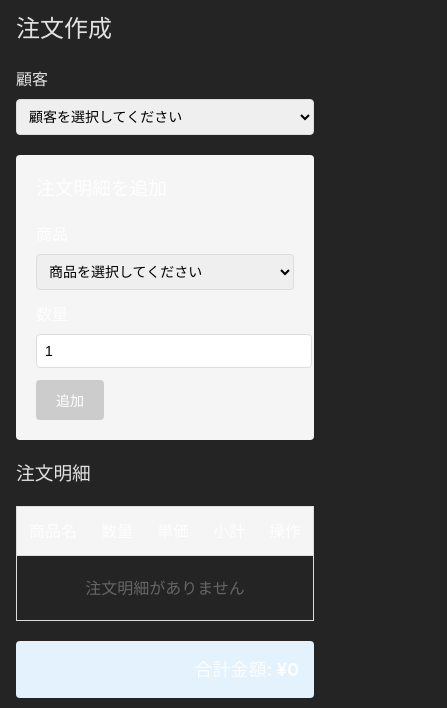
Test: CreateOrderForm › should add order item to table when add button is clicked
Select "ノートPC - ¥100,000" in the dropdown labelled "商品". click: (165, 272)
box: [36,254,294,290]
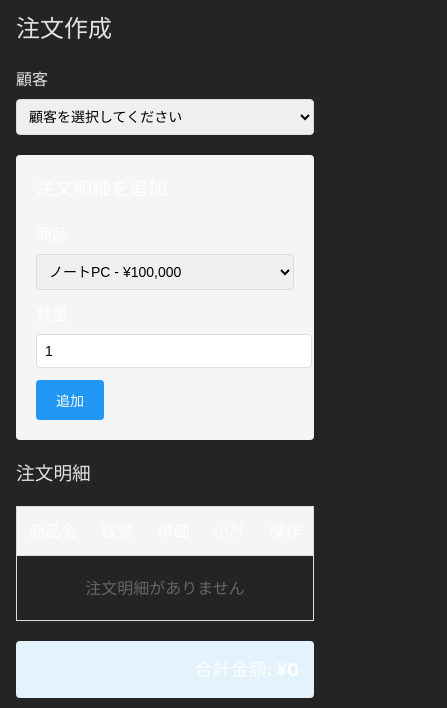
Replace the text in the number field labelled "数量" with "2". click: (174, 351)
box: [36,334,312,368]
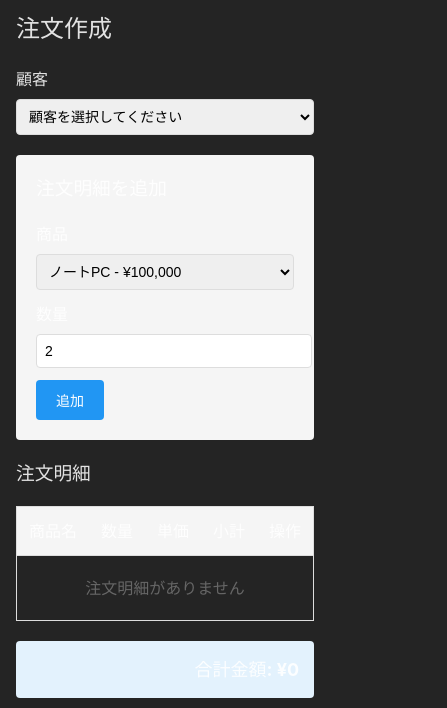
Click the button "追加". click: (70, 400)
box: [36,380,104,420]
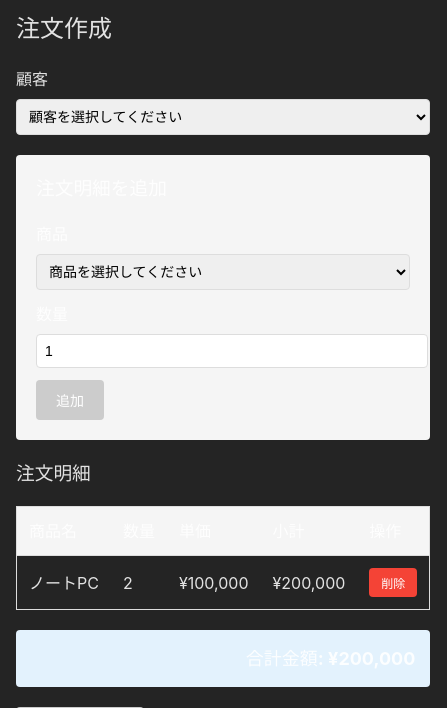
Expected: the text "ノートPC" is shown, [16,556,111,610]
Expected: the text "2" is shown, [111,556,167,610]
Expected: the text "¥100,000" is shown, [167,556,260,610]
